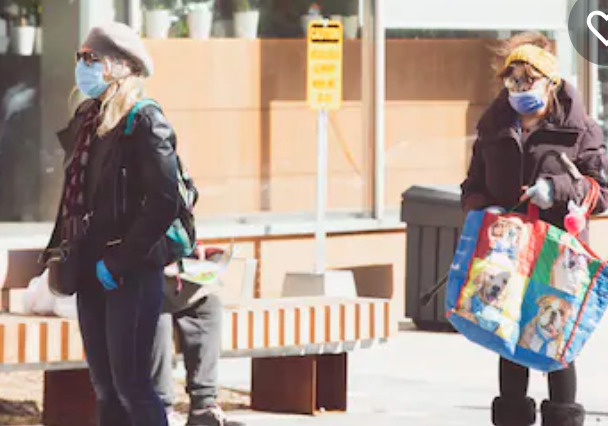Caution: (53, 19, 603, 424)
